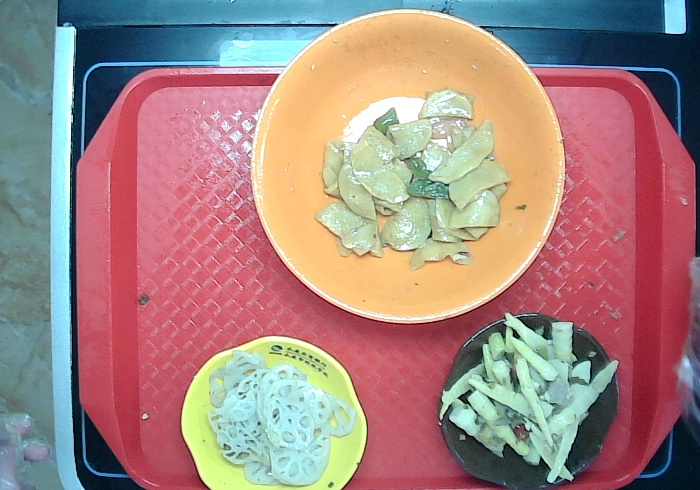YKMZ-Huang_Se_Ao_Bian_Wan: (177, 333, 371, 490)
YKMZ-Ju_Se_Tang_Wan: (249, 9, 565, 328)
YKMZ-Ka_Fei_Ao_Bian_Wan: (435, 312, 622, 490)
